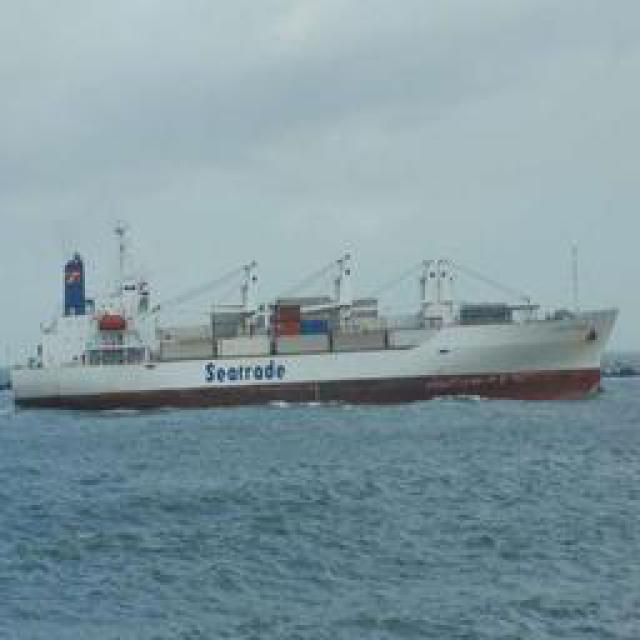Ship: (15, 242, 623, 415)
